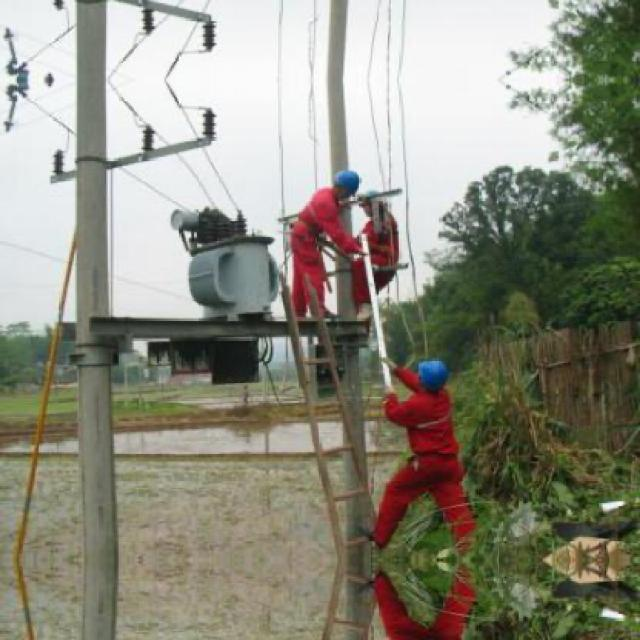helmet: (328, 164, 363, 204), (417, 354, 451, 391)
